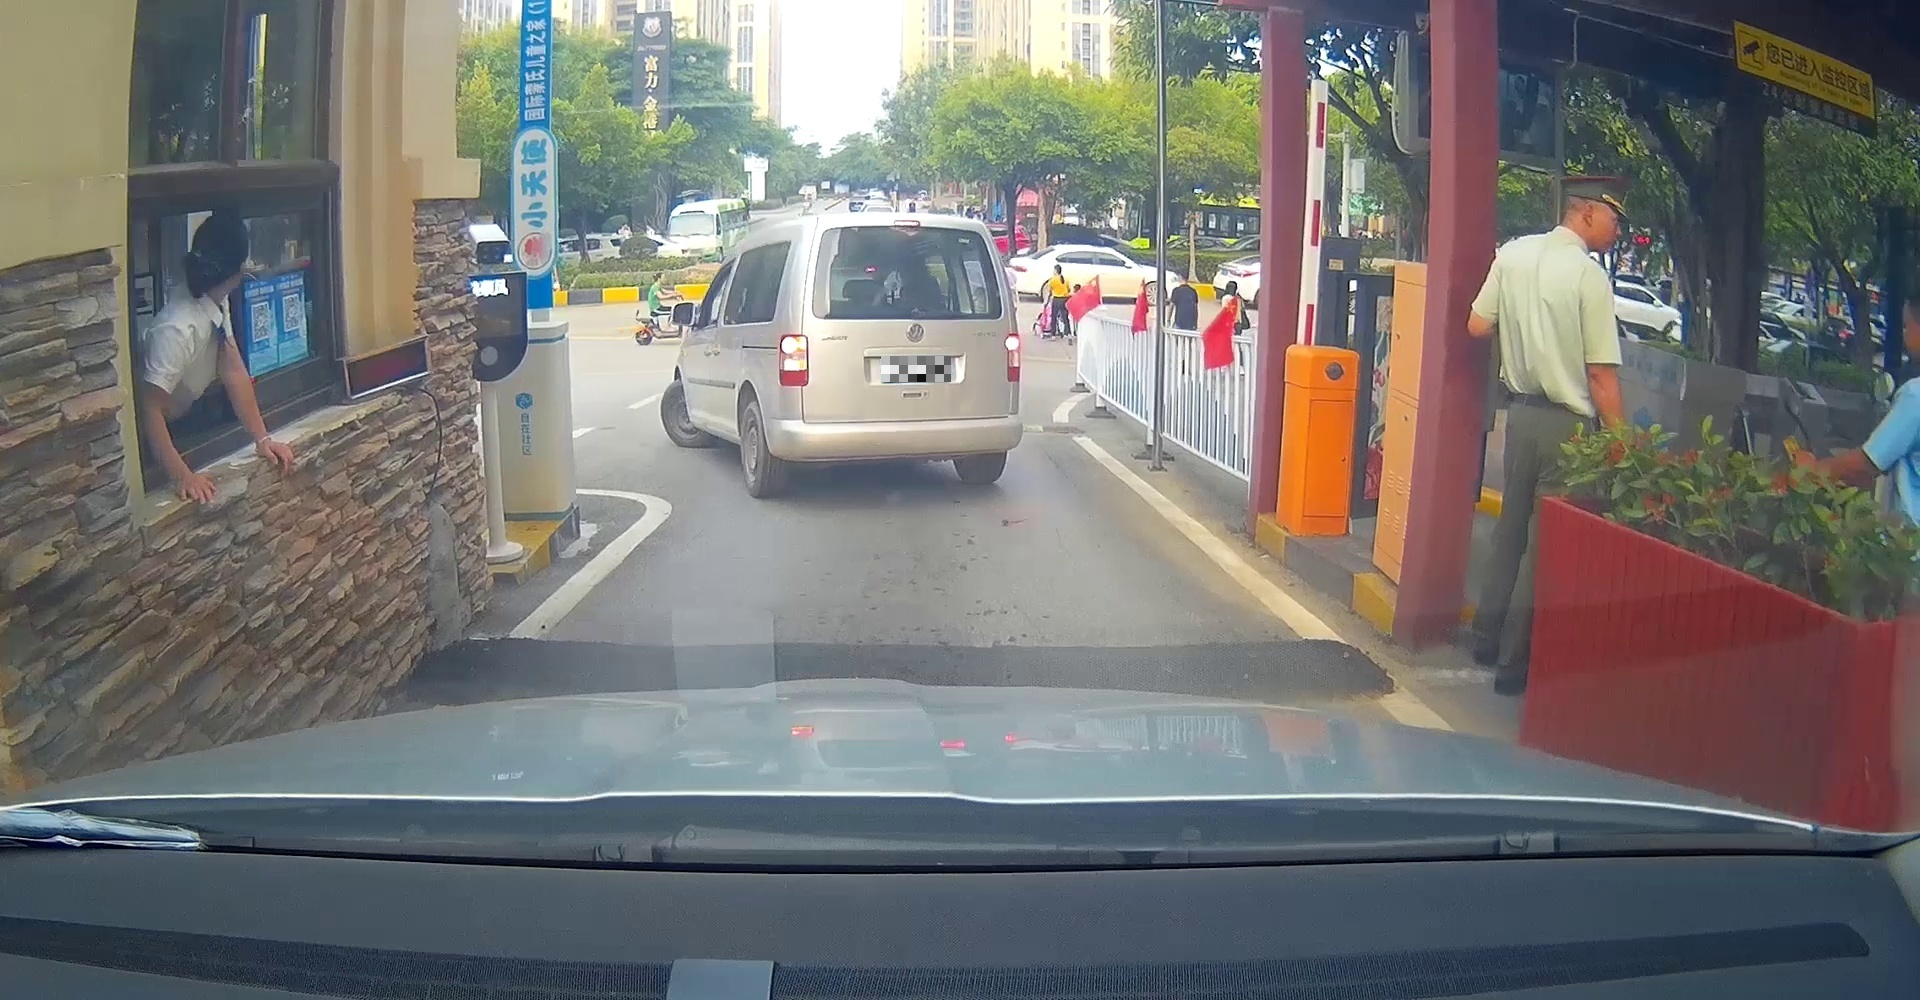L_light: (777, 334, 809, 387)
R_light: (1006, 332, 1021, 382)
T_light: (894, 220, 919, 226)
day-brake: (768, 212, 1022, 497)
plate_1: (881, 357, 951, 382)
